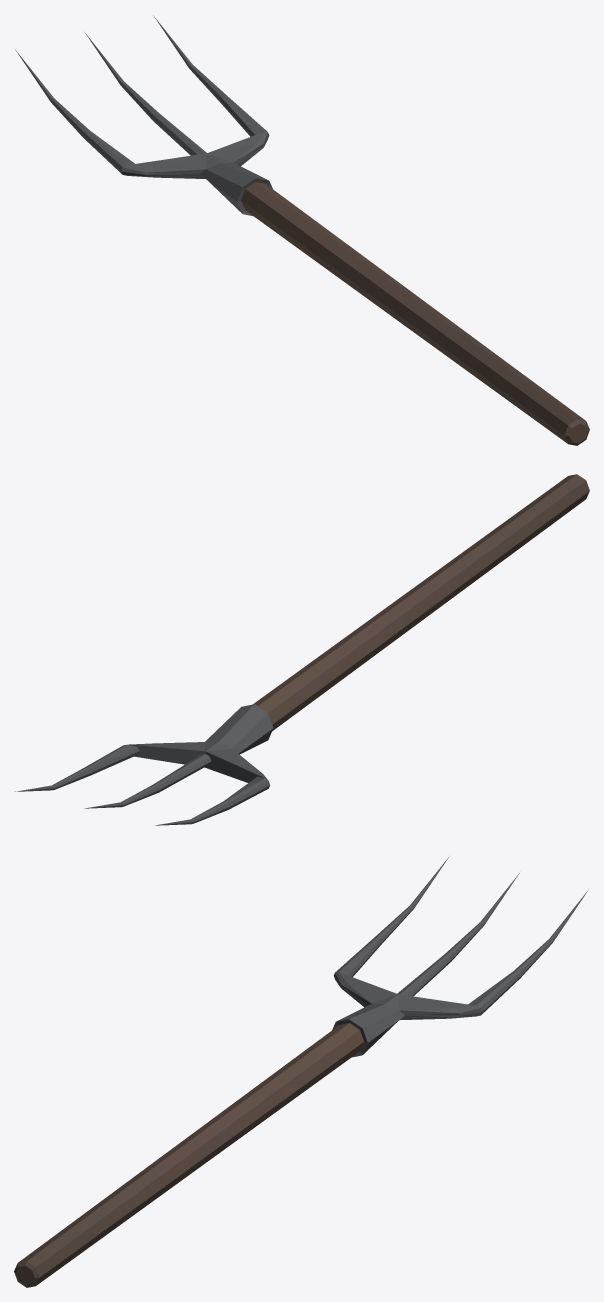
The model's file is Pitchfork.glb.
3 renders of one model, top to bottom at view 1: azimuth 30°, elevation 25°; view 2: azimuth 150°, elevation 25°; view 3: azimuth 330°, elevation 25°, orthographic.
Parts seen in each view (by area): view 1: Pitchfork; view 2: Pitchfork; view 3: Pitchfork.
Boxes of the visible parts, x1,y1,x2,y2 form: Pitchfork: (15,15,589,445); Pitchfork: (14,474,589,825); Pitchfork: (14,856,588,1287).
Size of the model in its own units: 0.5331 by 0.2072 by 3.08.
Materials: 1 (1 with a texture image).
